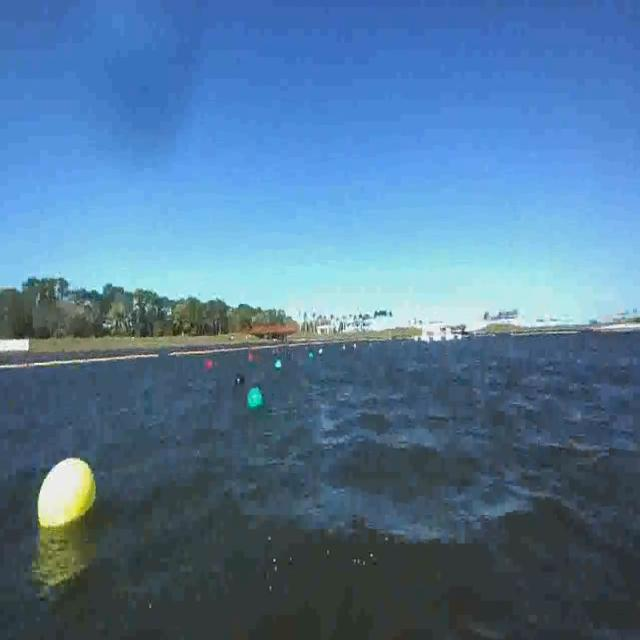black-buoy: (234, 366, 245, 388)
green-buoy: (248, 388, 262, 409), (274, 358, 283, 368)
yellow-buoy: (38, 458, 98, 531)
